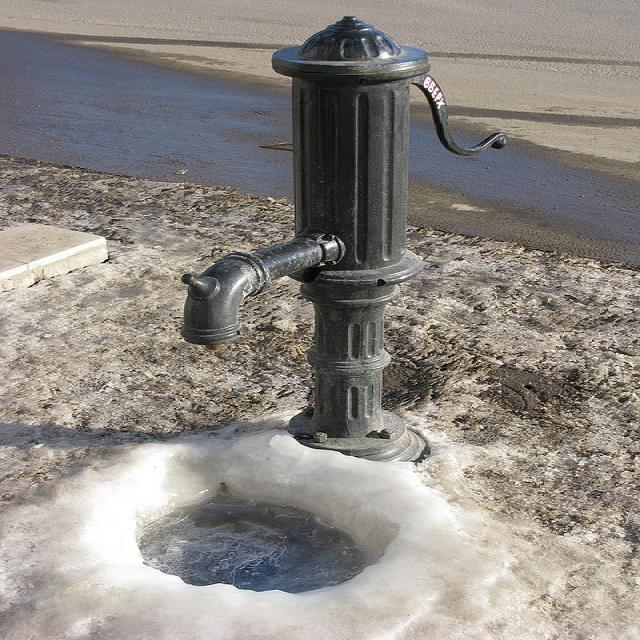fire_hydrant: (167, 9, 514, 470)
